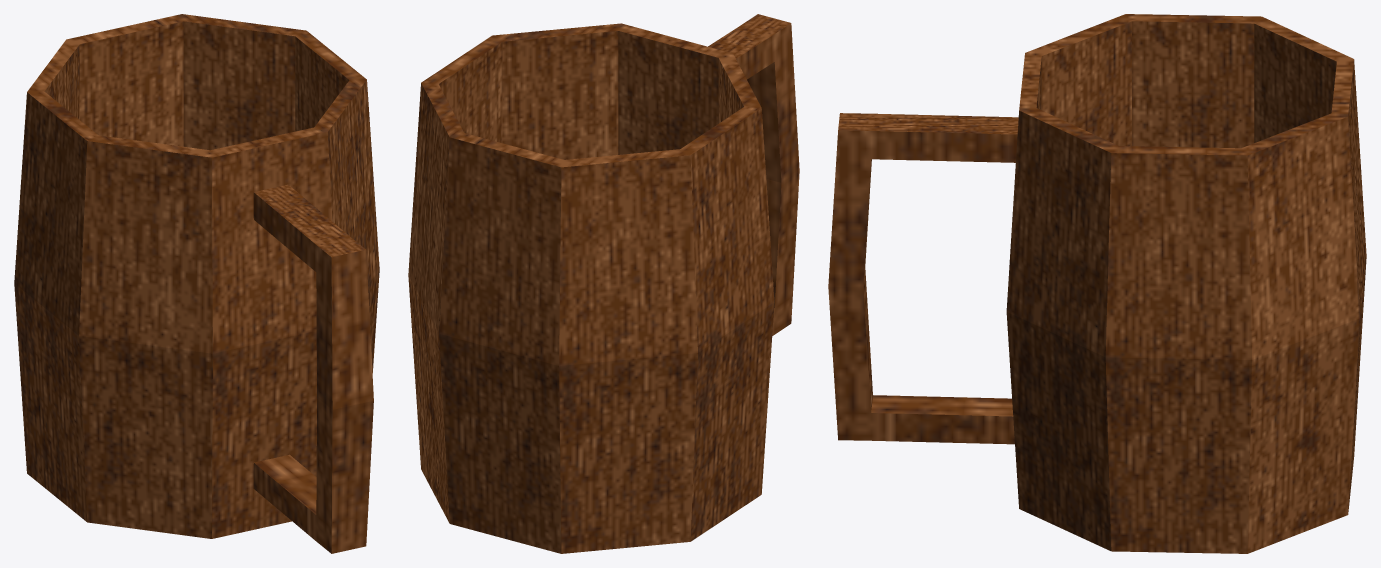
The model's file is SM_Dungeon_Cup_Wooden_Handle.fbx.
3 views of the same model, side by side, from view 1: azimuth 30°, elevation 25°; view 2: azimuth 150°, elevation 25°; view 3: azimuth 270°, elevation 25° (orthographic). The views are drawn at different scales.
Visible parts, largest first — view 1: SM_Dungeon_Cup_Wooden_Handle; view 2: SM_Dungeon_Cup_Wooden_Handle; view 3: SM_Dungeon_Cup_Wooden_Handle.
Boxes of the visible parts, x1,y1,x2,y2 form: SM_Dungeon_Cup_Wooden_Handle: (14, 14, 379, 553); SM_Dungeon_Cup_Wooden_Handle: (408, 14, 799, 553); SM_Dungeon_Cup_Wooden_Handle: (828, 14, 1366, 553).
Bounding box in the file's own units: 13.09 × 15.98 × 19.57.
